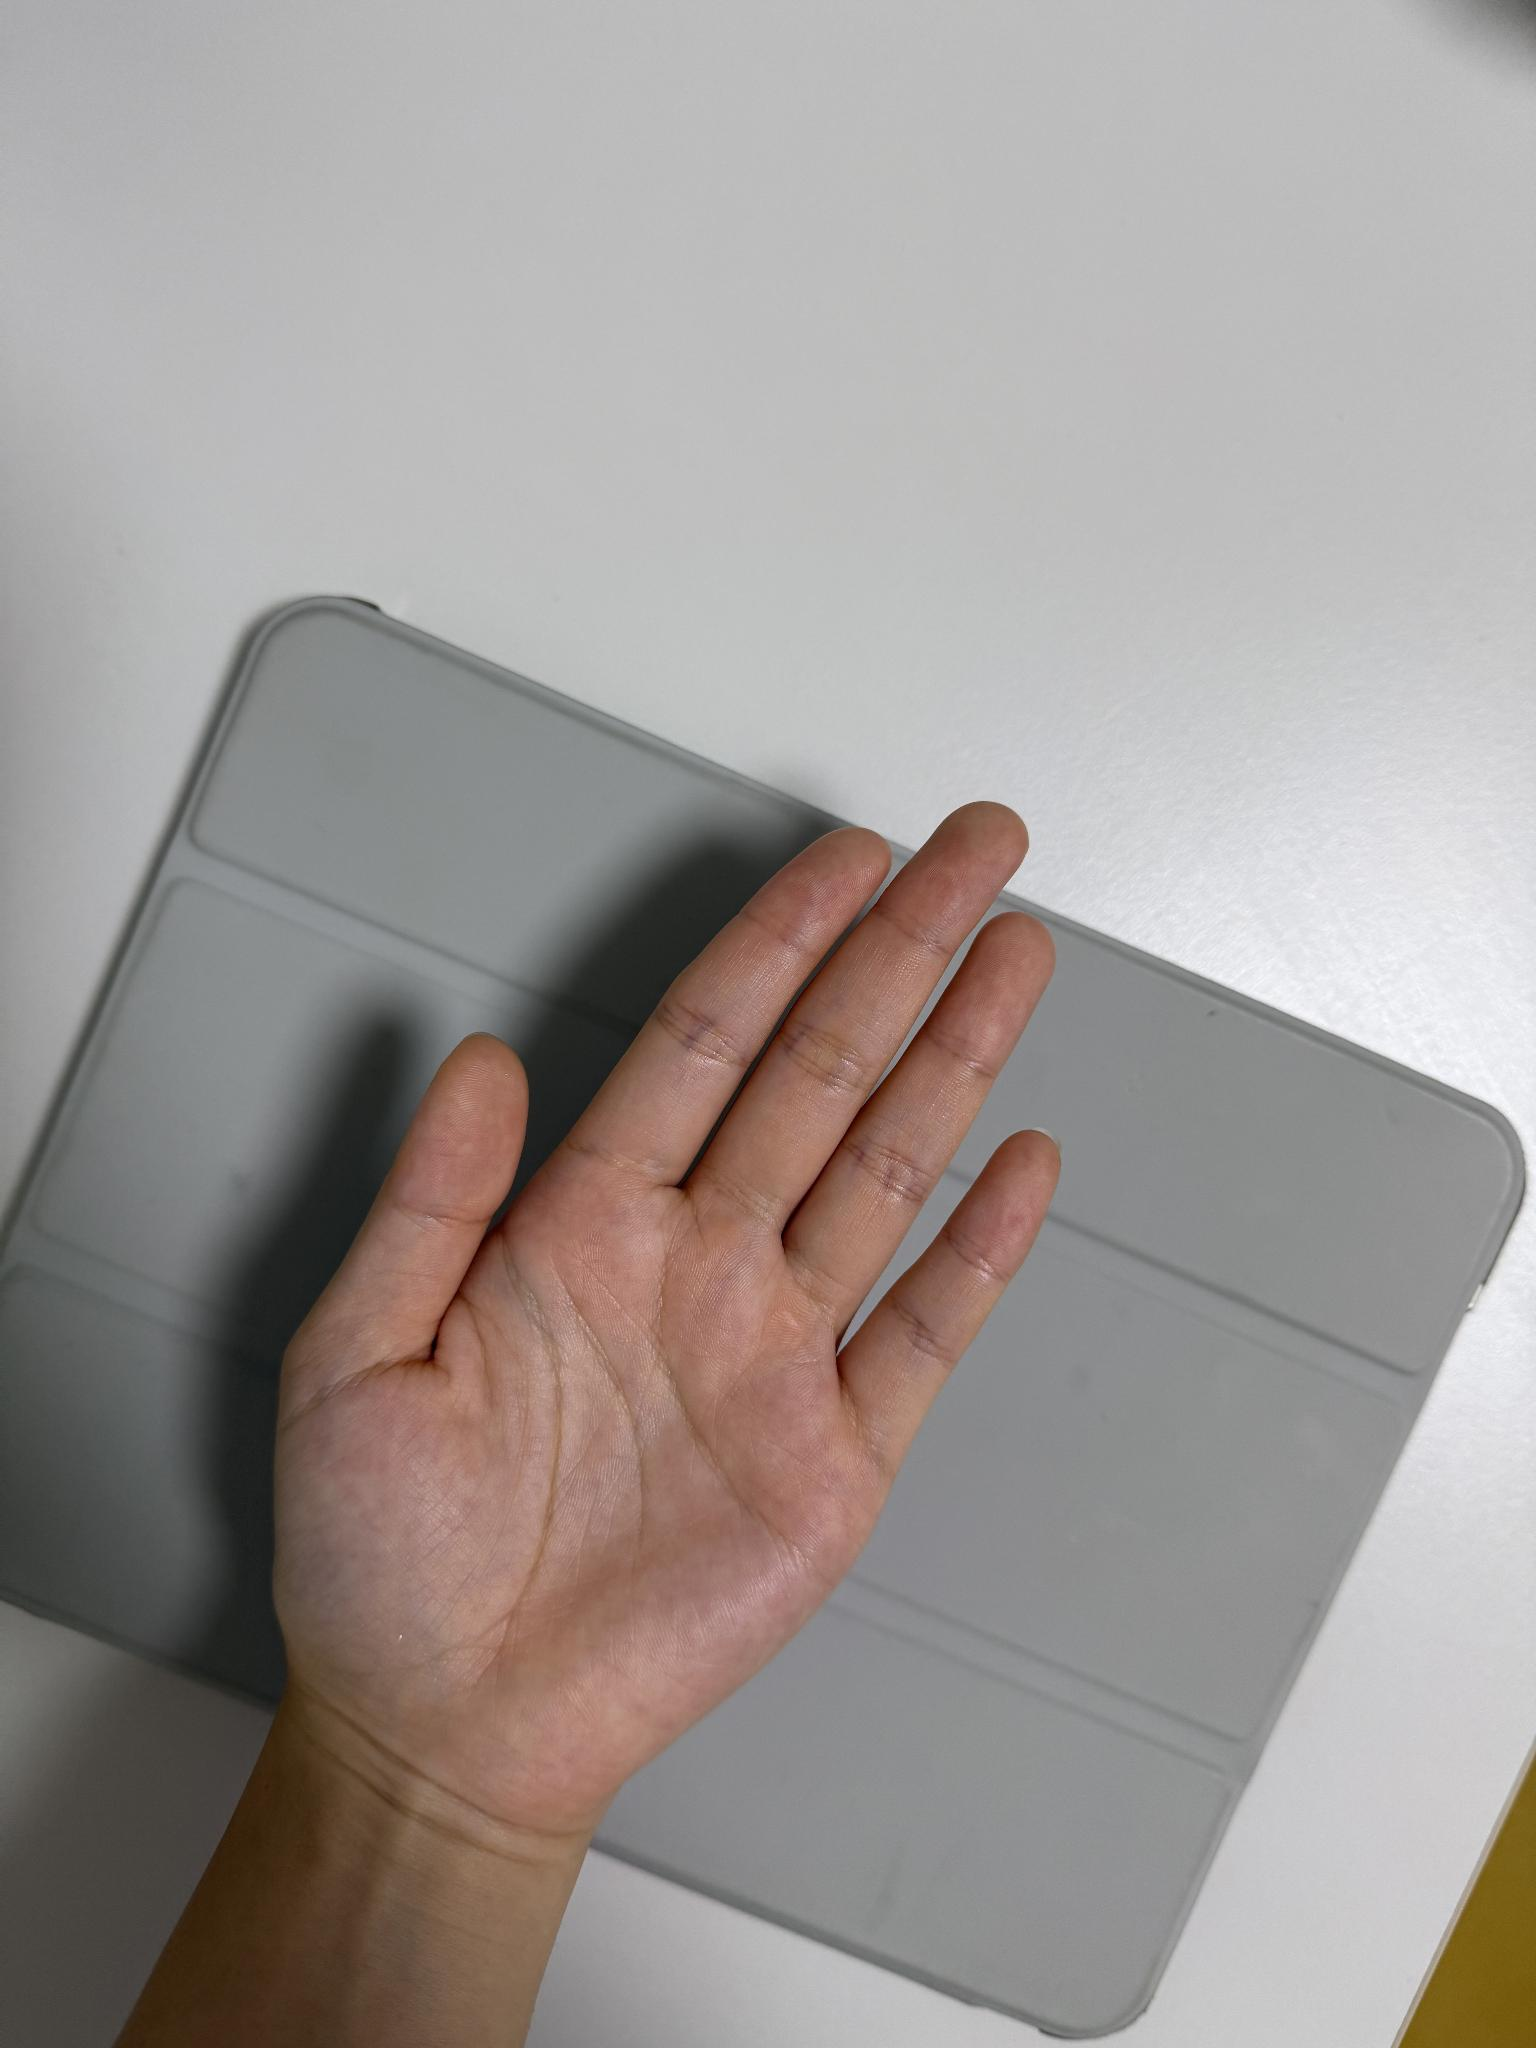open: (240, 790, 1086, 1908)
